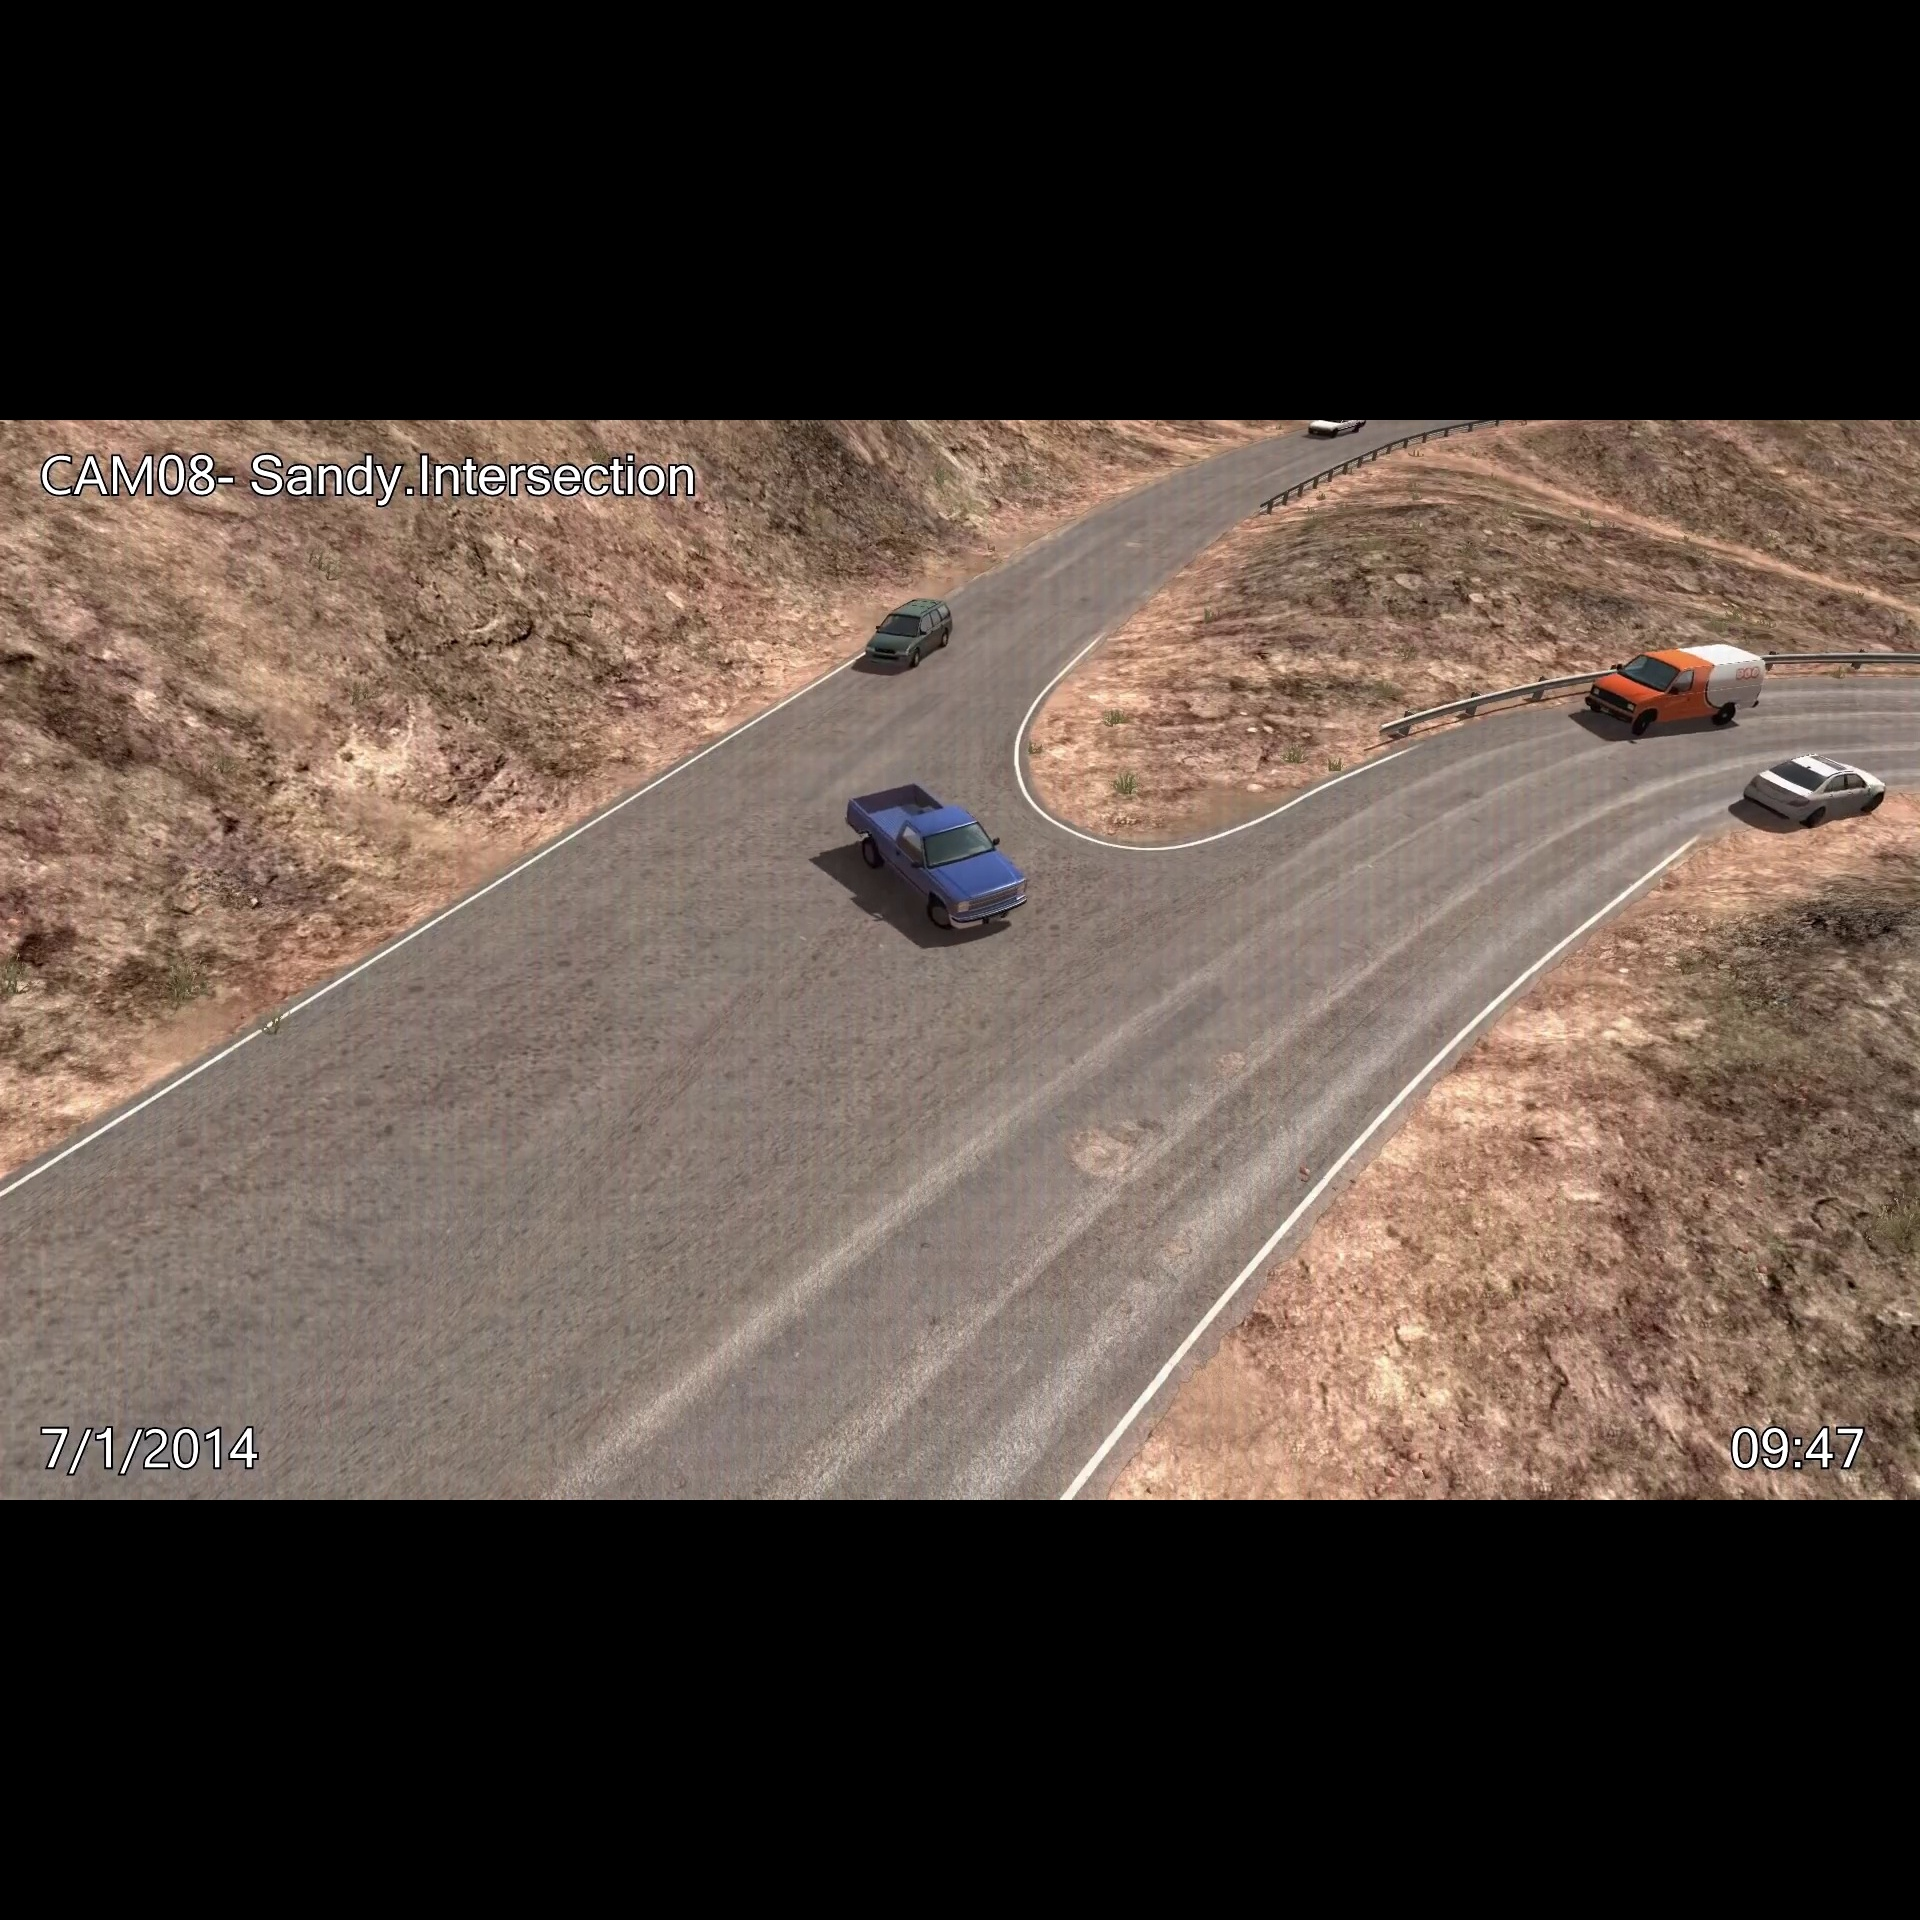vehicle: (839, 777, 1034, 941), (1579, 635, 1771, 745), (1734, 749, 1894, 837), (858, 593, 962, 679), (1306, 420, 1370, 440)
